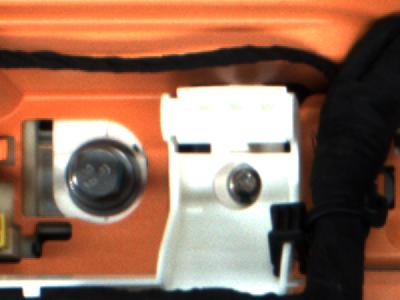nut_b: (66, 139, 144, 215)
